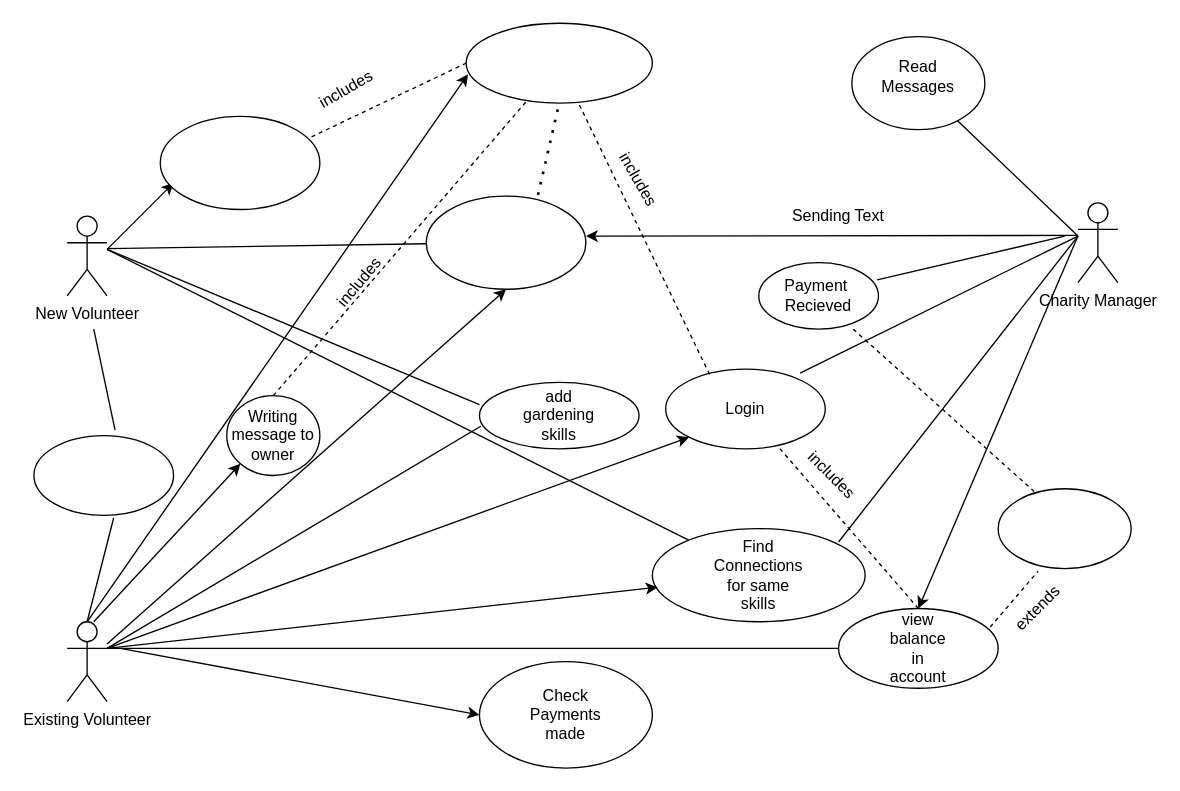
The diagram is 1180 pixels wide and 791 high, and some of its shapes have lost their labels. The centre of each missing label's shape, as x and y in pixels:
add new skills: (103,474)
adding new funds: (1064,528)
Find community: (505,242)
New Sign up: (239,162)
payments for currnet membership: (558,62)
